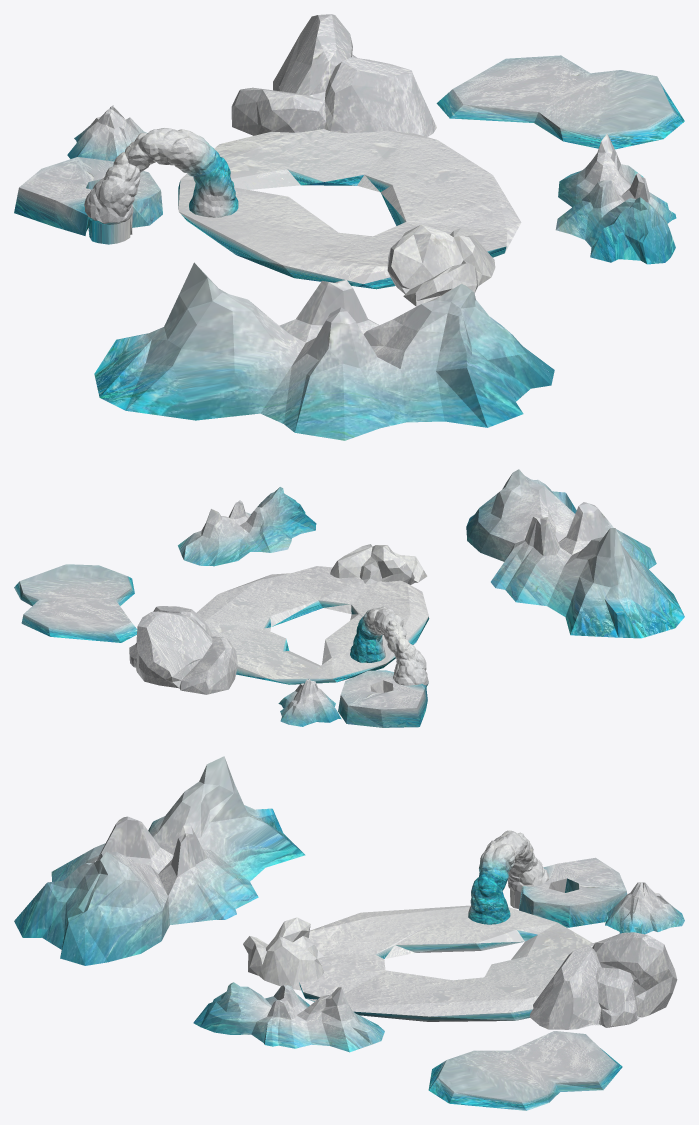
3 views of the same model, one above another, from view 1: azimuth 30°, elevation 25°; view 2: azimuth 150°, elevation 25°; view 3: azimuth 270°, elevation 25° (orthographic). The views are drawn at different scales.
Visible parts, largest first — view 1: model_8, model_1, model_7, model_3, model_4, model_6, model_2, model_5; view 2: model_8, model_1, model_4, model_7, model_3, model_6, model_2, model_5; view 3: model_8, model_1, model_3, model_7, model_4, model_6, model_2, model_5.
Boxes of the visible parts, <box> form: model_8: <box>94,262,554,440</box>; model_1: <box>178,129,521,289</box>; model_7: <box>436,55,684,149</box>; model_3: <box>231,14,436,136</box>; model_4: <box>14,128,238,244</box>; model_6: <box>555,133,676,264</box>; model_2: <box>387,224,495,306</box>; model_5: <box>67,105,147,161</box>; model_8: <box>466,469,684,638</box>; model_1: <box>196,566,429,684</box>; model_4: <box>338,606,428,727</box>; model_7: <box>14,564,137,642</box>; model_3: <box>129,606,237,694</box>; model_6: <box>178,487,316,566</box>; model_2: <box>330,544,427,584</box>; model_5: <box>278,678,341,726</box>; model_8: <box>14,756,305,965</box>; model_1: <box>299,905,592,1021</box>; model_3: <box>529,932,677,1029</box>; model_7: <box>428,1031,622,1110</box>; model_4: <box>468,830,627,927</box>; model_6: <box>193,982,384,1052</box>; model_2: <box>243,917,324,990</box>; model_5: <box>605,882,684,934</box>.
Size of the model in its own units: 0.1554 by 0.0262 by 0.146.
1 material, 1 textured.
